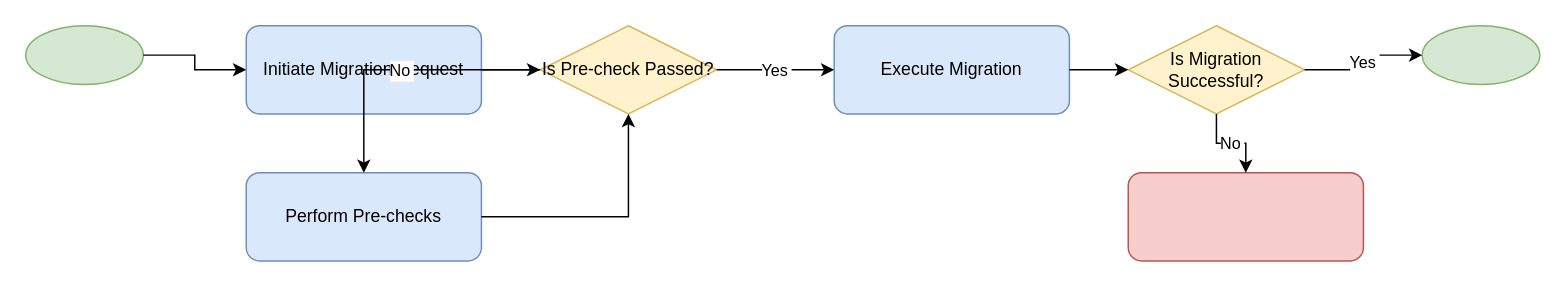
The diagram is 1566 pixels wide and 287 high, and some of its shapes have lost their labels. The box of each missing label's shape, as (x1, y1, x2, y2) in pixels:
End: (1421, 24, 1540, 85)
Perform Rollback: (1127, 171, 1363, 261)
Start: (24, 24, 143, 85)
